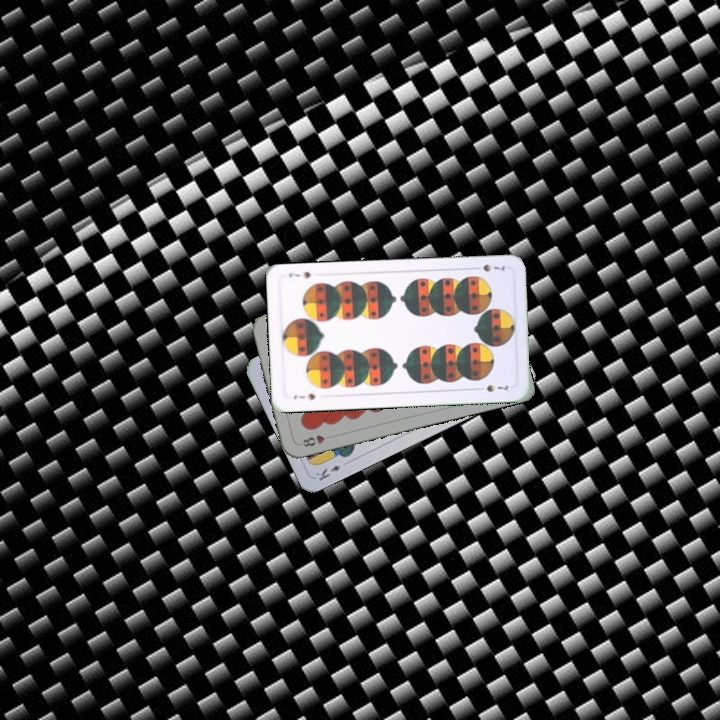EK: (311, 461, 343, 483)
H8: (298, 431, 327, 449)
S7: (469, 260, 509, 275), (290, 389, 318, 402)
